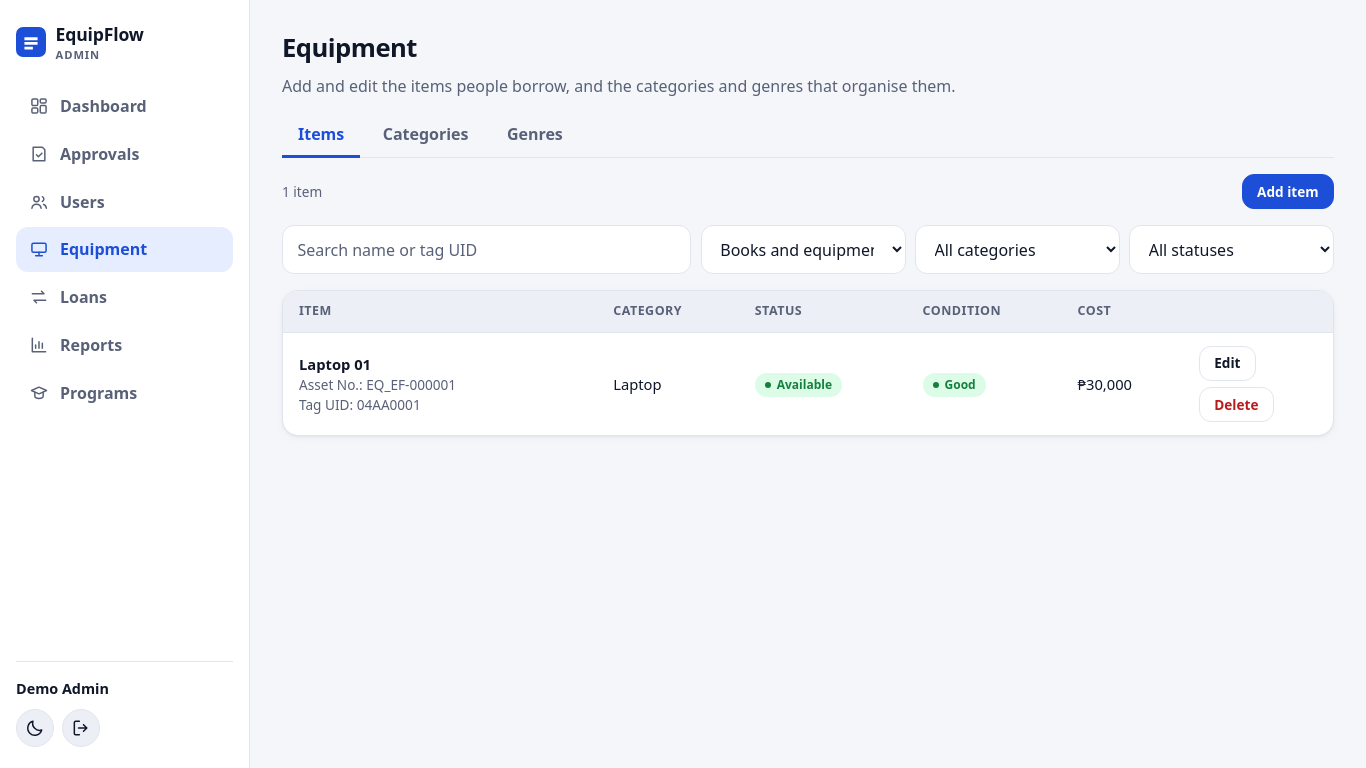
it: Equipment page: items › asks before deleting, and explains when an item has history and cannot be deleted
Step 1. Click the button "Delete" → (1236, 405), box [1199,387,1274,422]
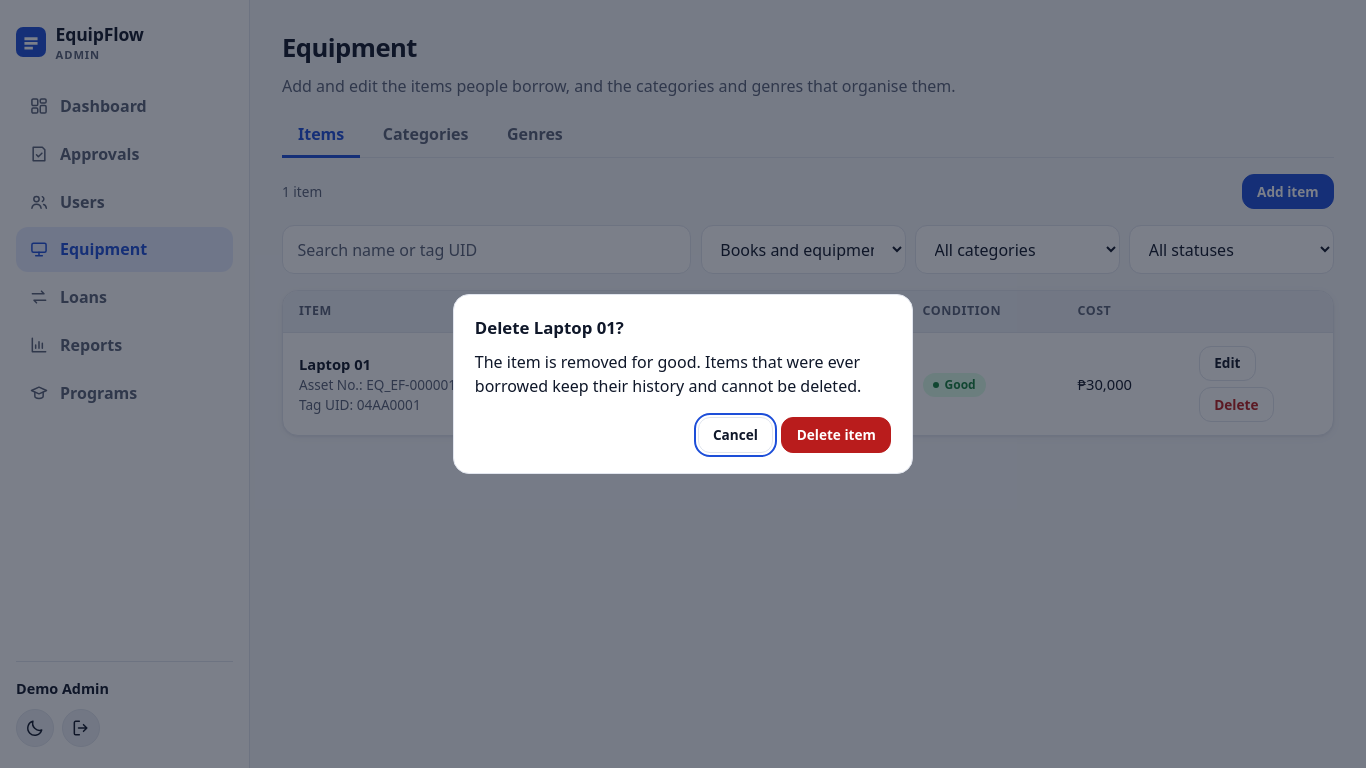
Step 2. Click the button "Delete item" → (836, 435), box [781,417,891,453]
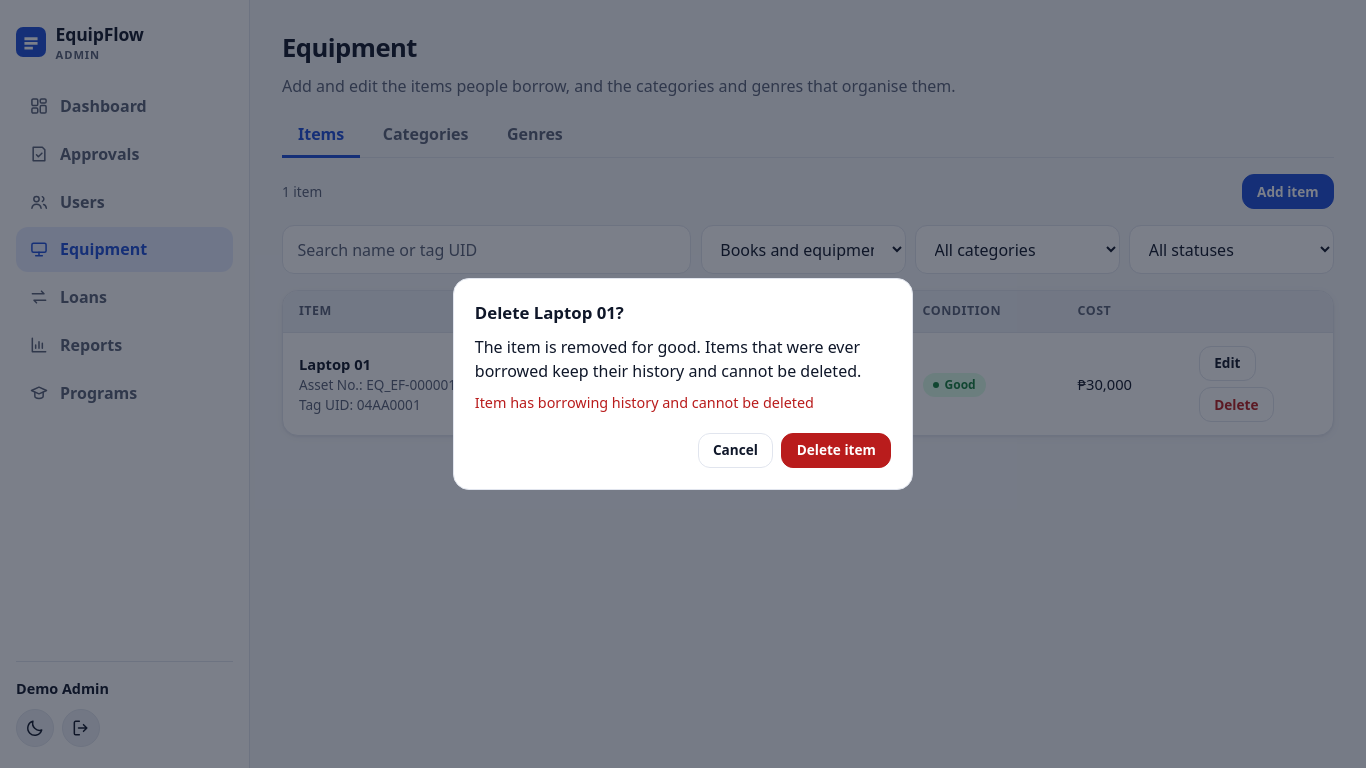
Check: the dialog is shown, box [453,278,913,490]
Check: the message shows "Item has borrowing history", box [475,393,814,412]
